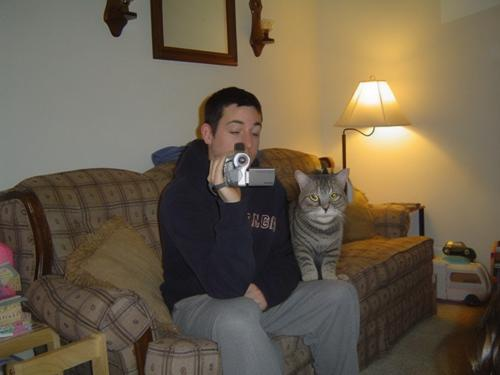cat: (284, 169, 349, 284)
person: (158, 84, 363, 373)
person/hand: (208, 152, 243, 202), (245, 283, 267, 310)
person/head: (200, 87, 263, 167)
sofa: (1, 149, 440, 375)
